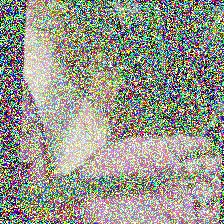Leaf_Blast: (50, 183, 166, 205), (136, 167, 176, 180)
